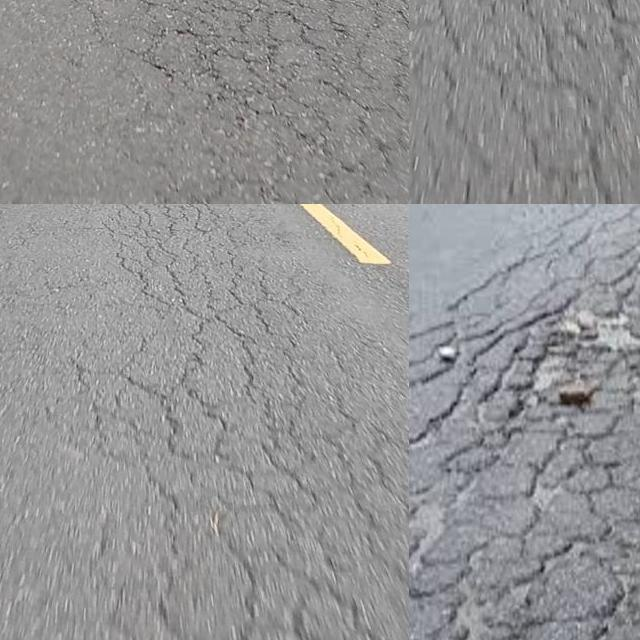Retak Buaya: (126, 204, 409, 640), (409, 204, 640, 640), (95, 0, 409, 204), (439, 0, 640, 204)
